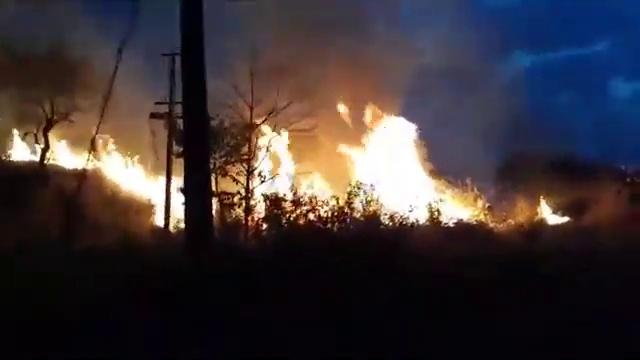fire: (361, 125, 430, 207), (102, 157, 149, 197)
